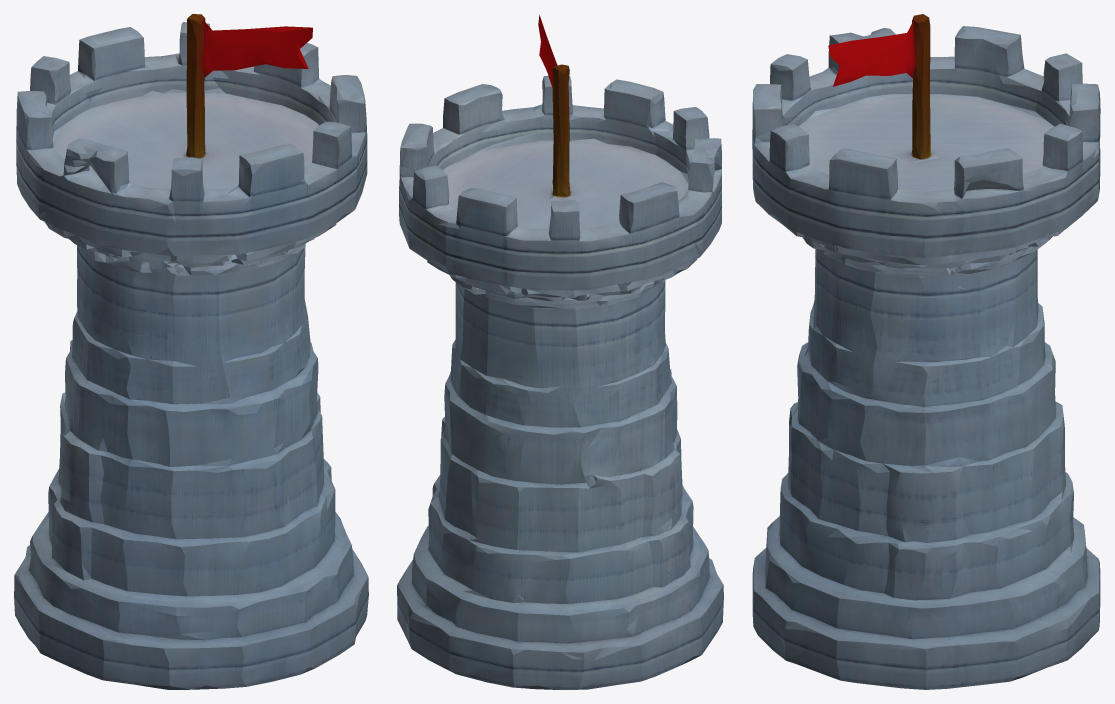
The model's file is tower_red.glb.
3 renders of one model, left to right at view 1: azimuth 30°, elevation 25°; view 2: azimuth 150°, elevation 25°; view 3: azimuth 270°, elevation 25°, orthographic. The views are drawn at different scales.
Visible parts, largest first — view 1: Mesh; view 2: Mesh; view 3: Mesh.
Boxes of the visible parts, x1,y1,x2,y2 form: Mesh: [14, 14, 368, 689]; Mesh: [397, 14, 723, 689]; Mesh: [752, 14, 1100, 689].
Bounding box in the file's own units: 0.9988 × 1.9 × 0.9857.
1 material, 1 textured.
